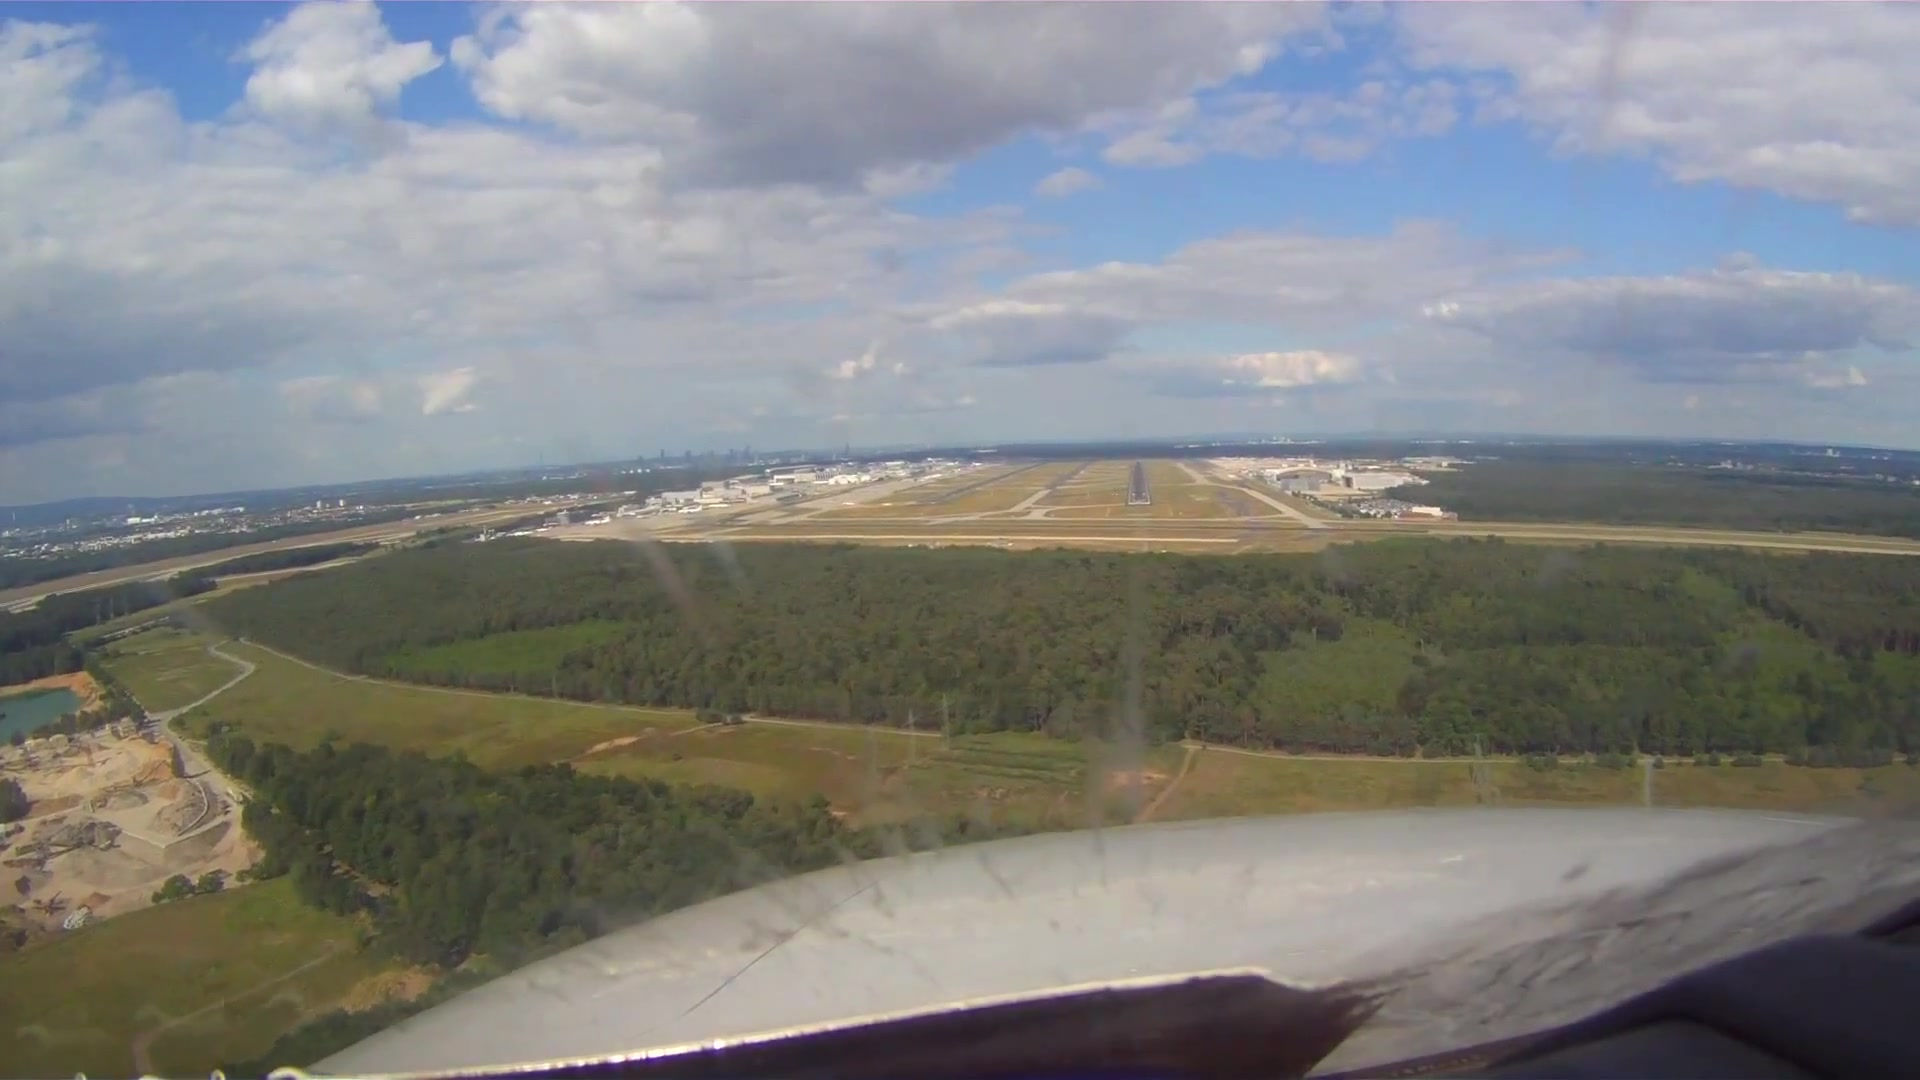runway: (1125, 460, 1153, 508)
